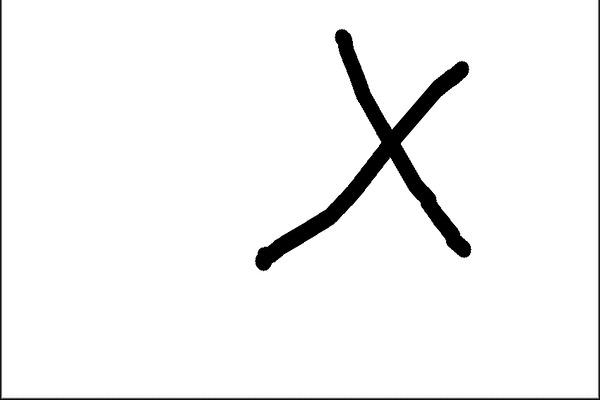X: (228, 12, 491, 284)
